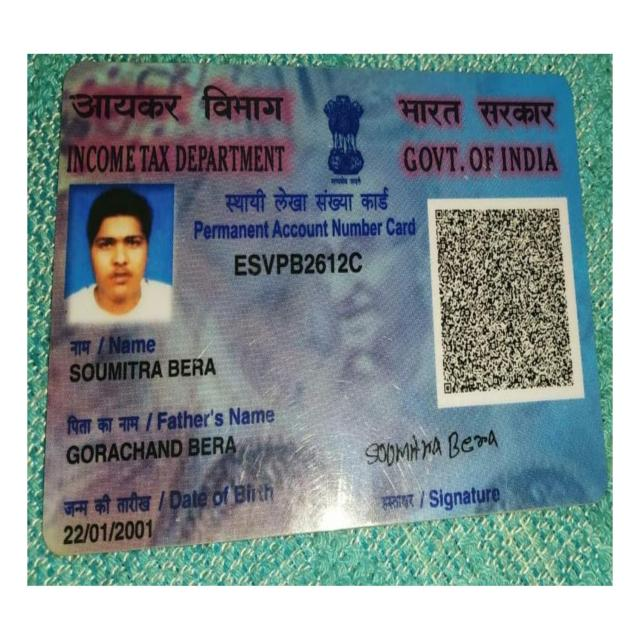pan_card: (46, 66, 605, 555)
